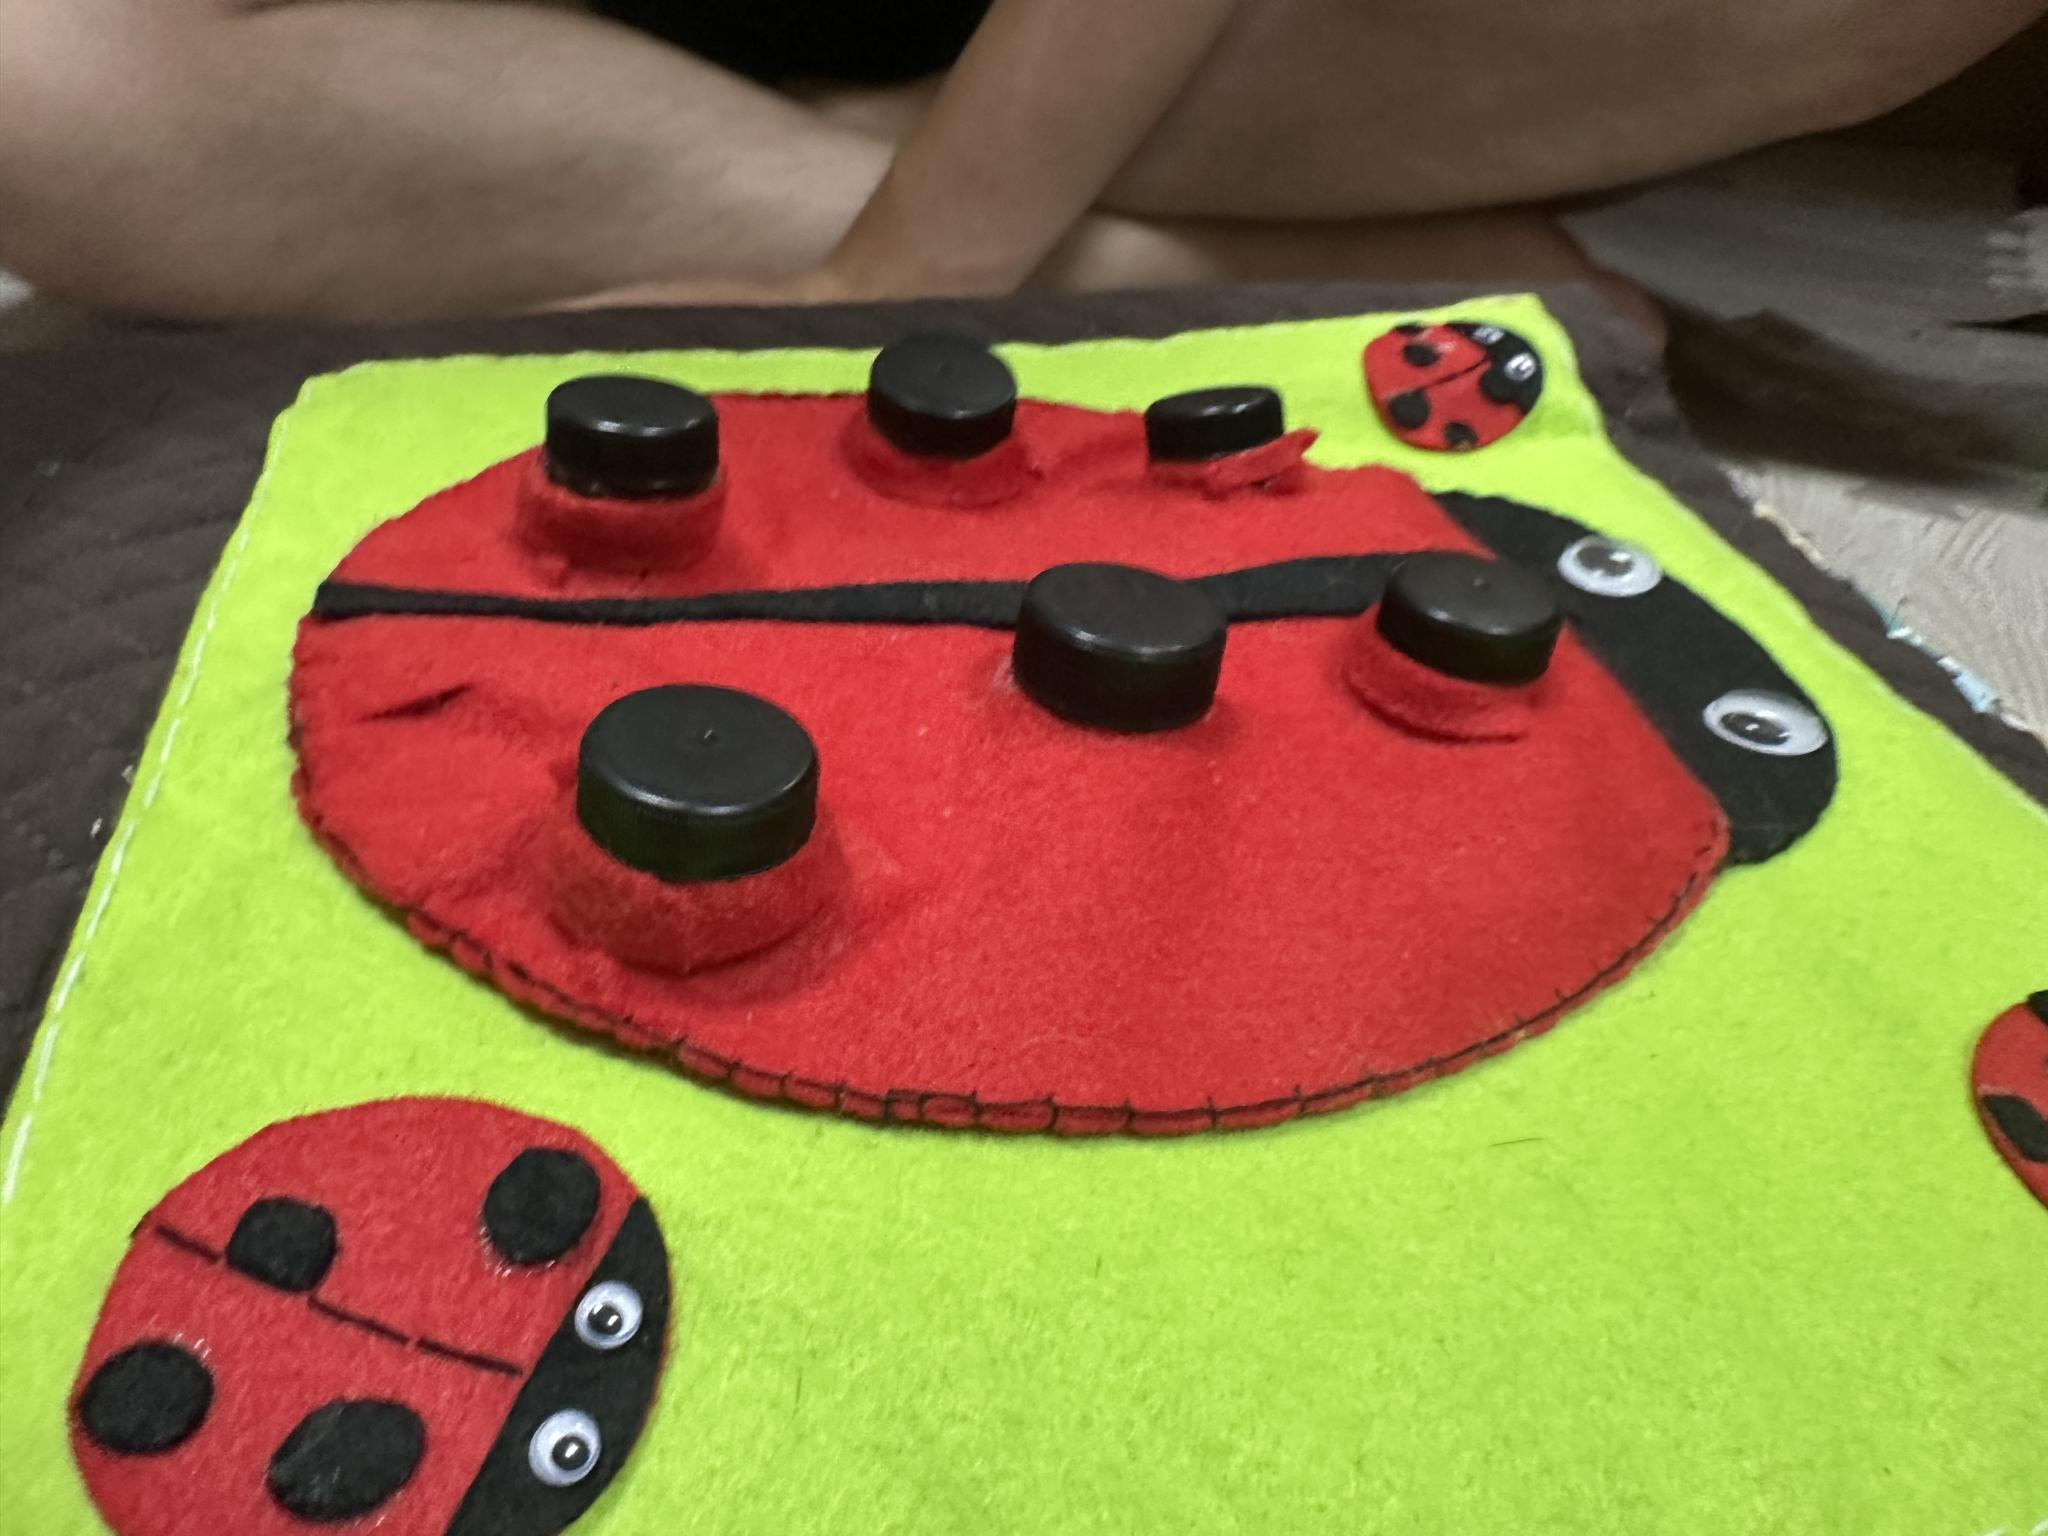cap_ok: (556, 662, 855, 979), (985, 550, 1253, 773), (1355, 529, 1571, 779), (524, 357, 742, 565), (848, 331, 1059, 513), (1126, 366, 1335, 524)
